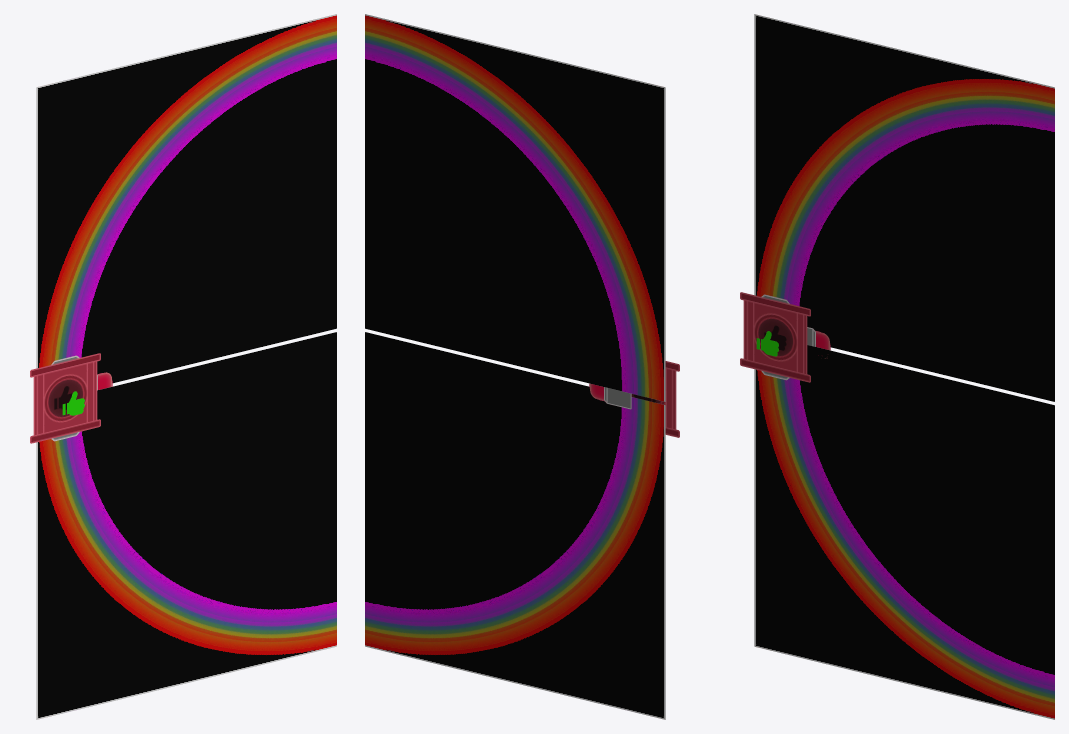
The model's file is WarpTrigger.fbx.
3 views of the same model, side by side, from view 1: azimuth 30°, elevation 25°; view 2: azimuth 150°, elevation 25°; view 3: azimuth 330°, elevation 25° (orthographic).
Visible parts, largest first — view 1: TopRainboxPlane, BottomRainboxPlane, Plane; view 2: TopRainboxPlane, BottomRainboxPlane, Plane (×2); view 3: BottomRainboxPlane, TopRainboxPlane, Plane.
Boxes of the visible parts, x1=… form: TopRainboxPlane: x1=36, y1=14, x2=336, y2=383; BottomRainboxPlane: x1=36, y1=332, x2=336, y2=719; Plane: x1=30, y1=353, x2=100, y2=443; TopRainboxPlane: x1=365, y1=14, x2=665, y2=401; BottomRainboxPlane: x1=365, y1=332, x2=665, y2=719; Plane (×2): x1=589, y1=361, x2=679, y2=437; BottomRainboxPlane: x1=754, y1=345, x2=1054, y2=719; TopRainboxPlane: x1=754, y1=14, x2=1054, y2=401; Plane: x1=740, y1=292, x2=810, y2=382.
Bounding box in the file's own units: 47.58 × 87.97 × 3.
